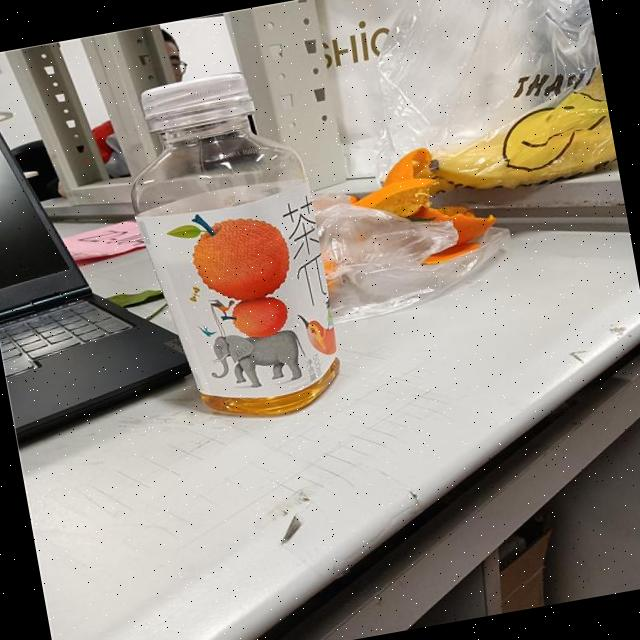orange-peel: (312, 137, 492, 296), (184, 207, 296, 308)
